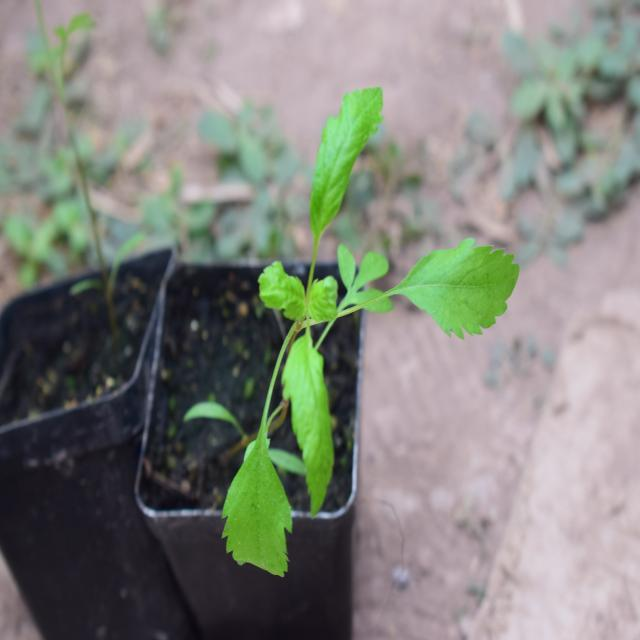Bidens pilosa: (229, 95, 512, 583)
